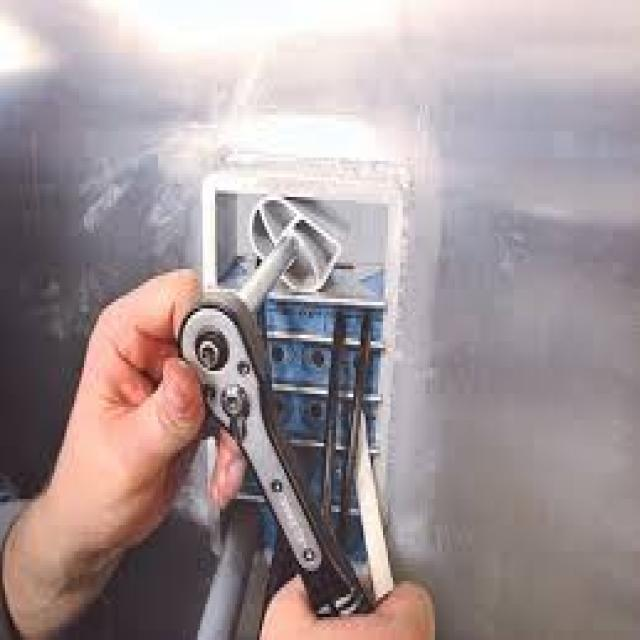wrench: (166, 289, 386, 640)
